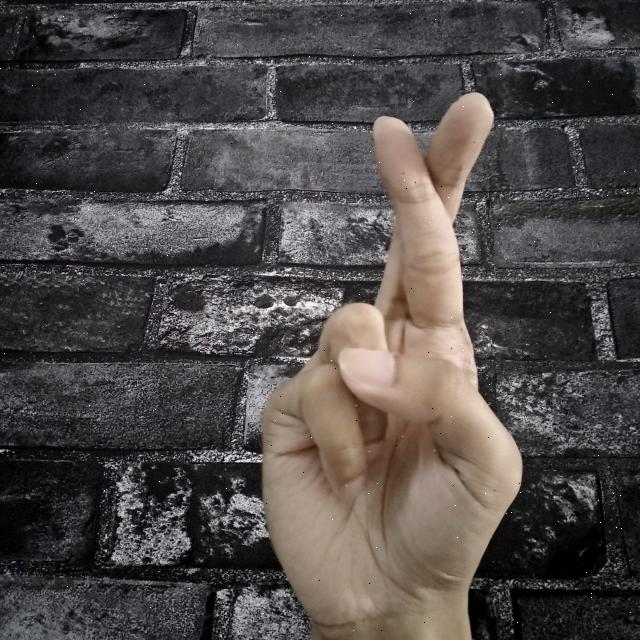R: (243, 81, 544, 640)
